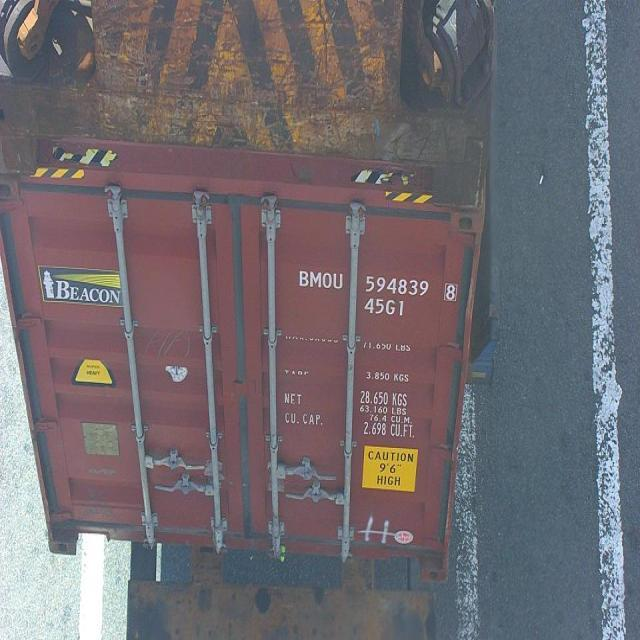ISO: (364, 298, 406, 316)
container_number: (300, 272, 458, 306)
